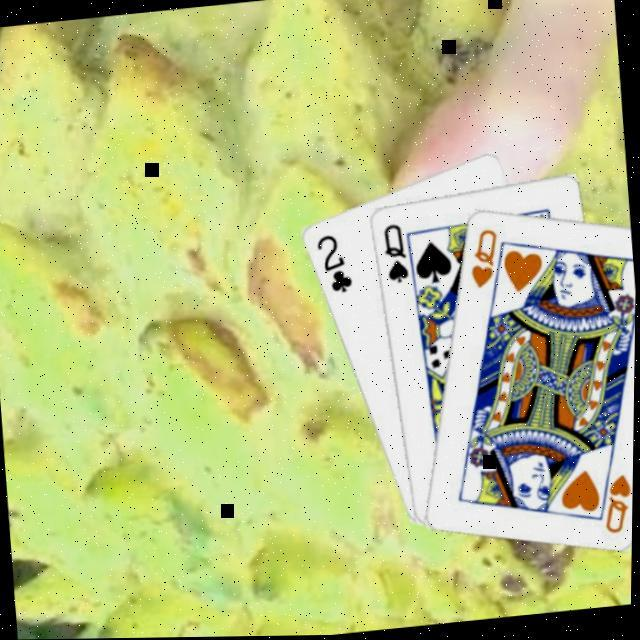2C: (312, 231, 358, 301)
QH: (593, 462, 635, 540), (466, 226, 506, 293)
QS: (380, 221, 415, 288)
